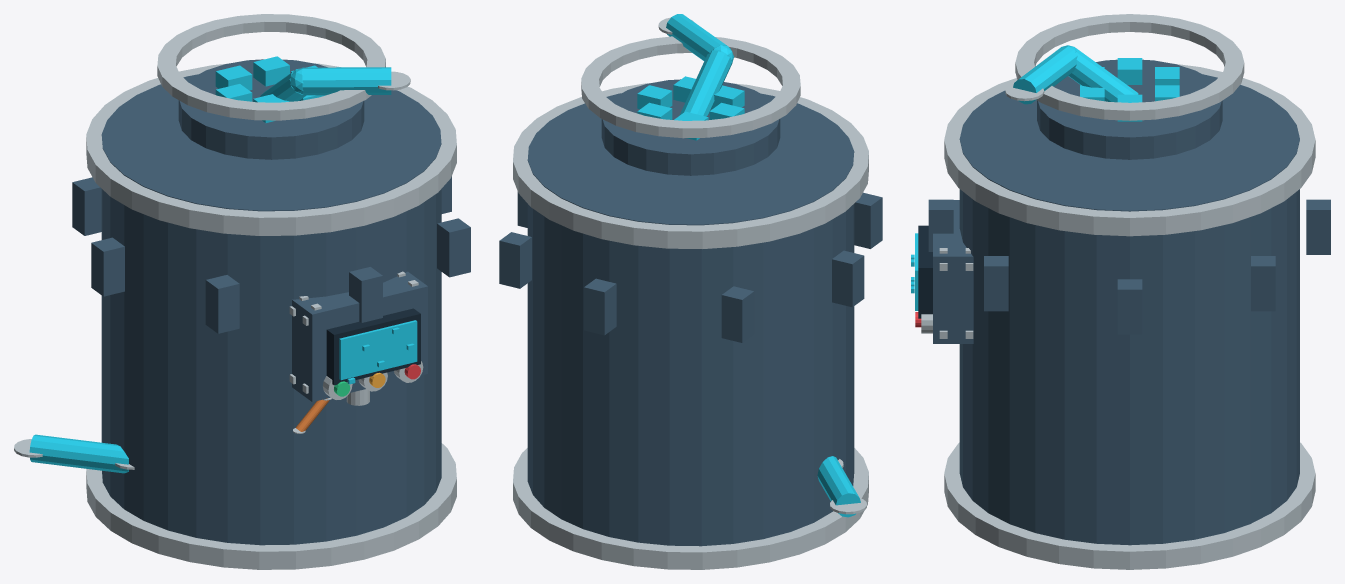
Rendered from 33_L78_VirtualLowKPrecursorCartridge.fbx.
3 views of the same model, side by side, from view 1: azimuth 30°, elevation 25°; view 2: azimuth 150°, elevation 25°; view 3: azimuth 270°, elevation 25° (orthographic). The views are drawn at different scales.
Parts seen in each view (by area): view 1: VirtualLowKPrecursorCartridge, VirtualLowKPrecursorCartridge_Part_0049, VirtualLowKPrecursorCartridge_Part_0055, VirtualLowKPrecursorCartridge_Part_0054; view 2: VirtualLowKPrecursorCartridge, VirtualLowKPrecursorCartridge_Part_0049, VirtualLowKPrecursorCartridge_Part_0050, VirtualLowKPrecursorCartridge_Part_0052; view 3: VirtualLowKPrecursorCartridge, VirtualLowKPrecursorCartridge_Part_0049, VirtualLowKPrecursorCartridge_Part_0053.
Part boxes in pixels (x1,y1,x2,y2): VirtualLowKPrecursorCartridge: (14,14,470,569); VirtualLowKPrecursorCartridge_Part_0049: (178,59,364,159); VirtualLowKPrecursorCartridge_Part_0055: (253,56,289,86); VirtualLowKPrecursorCartridge_Part_0054: (215,65,252,90); VirtualLowKPrecursorCartridge: (499,14,882,569); VirtualLowKPrecursorCartridge_Part_0049: (601,79,780,175); VirtualLowKPrecursorCartridge_Part_0050: (637,85,672,109); VirtualLowKPrecursorCartridge_Part_0052: (711,85,744,109); VirtualLowKPrecursorCartridge: (911,14,1330,569); VirtualLowKPrecursorCartridge_Part_0049: (1037,59,1222,159); VirtualLowKPrecursorCartridge_Part_0053: (1117,58,1142,84).
Size of the model in its own units: 146 by 159 by 136.
